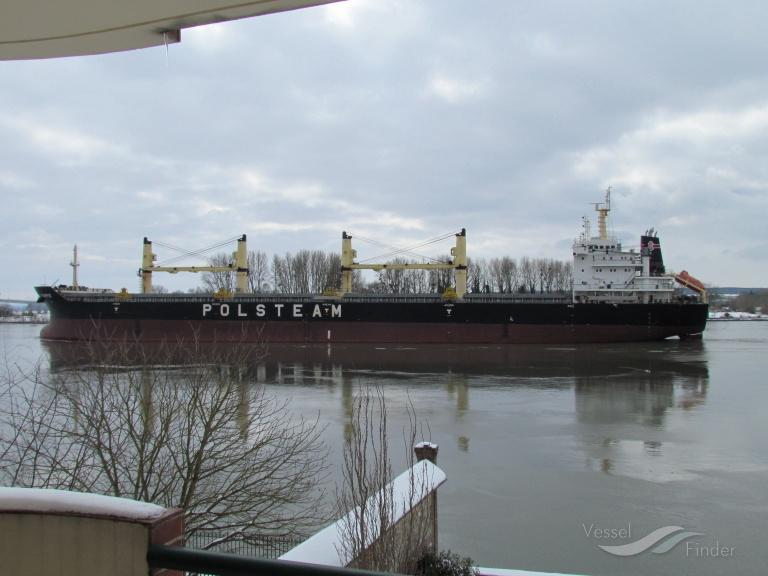OCR: (195, 297, 344, 326)
